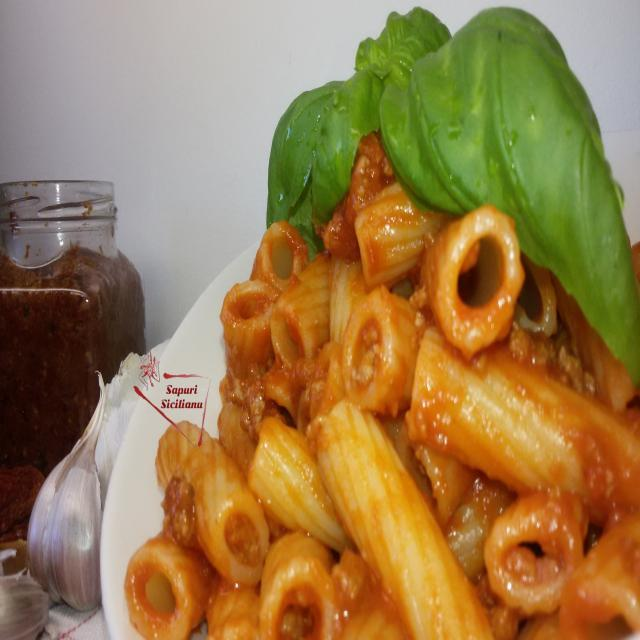Pasta al ragu: (148, 68, 622, 608)
